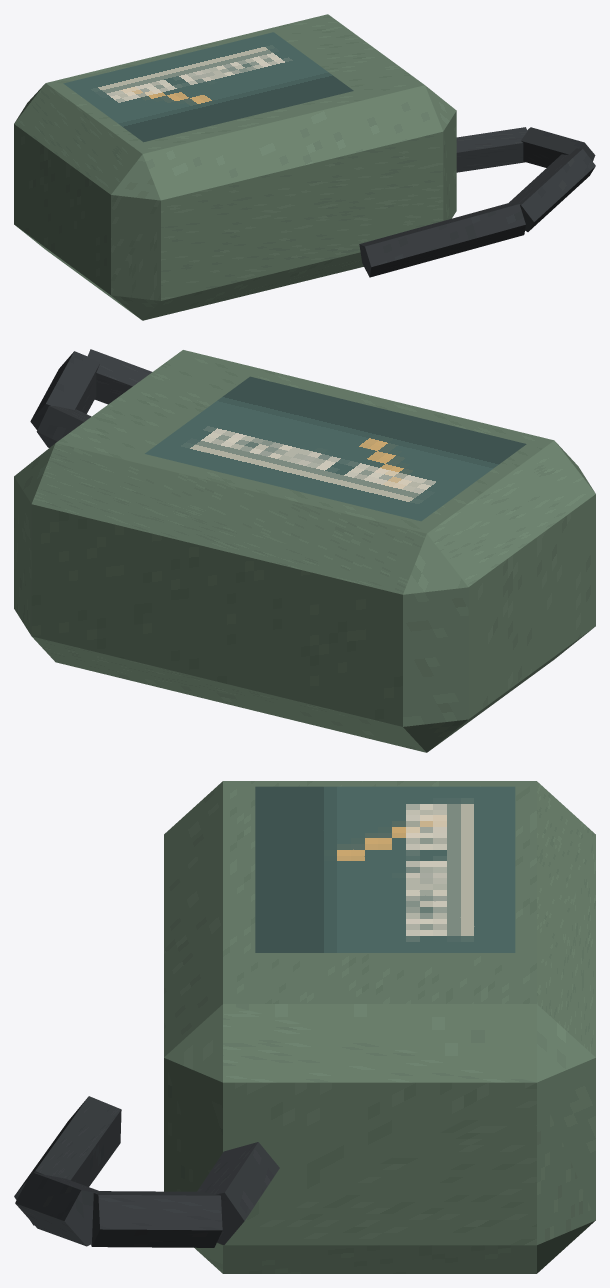
The model's file is water_purifier.glb.
3 renders of one model, top to bottom at view 1: azimuth 30°, elevation 25°; view 2: azimuth 150°, elevation 25°; view 3: azimuth 270°, elevation 25°, orthographic. The views are drawn at different scales.
Visible parts, largest first — view 1: block_portable filter body, block_purifier control panel, block_filter inlet and outlet hose 3, block_filter inlet and outlet hose 2, block_filter inlet and outlet hose 0, block_filter inlet and outlet hose 1; view 2: block_portable filter body, block_purifier control panel, block_filter inlet and outlet hose 1, block_filter inlet and outlet hose 2, block_filter inlet and outlet hose 0; view 3: block_portable filter body, block_purifier control panel, block_filter inlet and outlet hose 1, block_filter inlet and outlet hose 3, block_filter inlet and outlet hose 0, block_filter inlet and outlet hose 2.
Part boxes in pixels (x1,y1,x2,y2): block_portable filter body: (14, 14, 456, 320); block_purifier control panel: (63, 32, 353, 142); block_filter inlet and outlet hose 3: (359, 203, 525, 277); block_filter inlet and outlet hose 2: (508, 148, 595, 231); block_filter inlet and outlet hose 0: (456, 127, 527, 172); block_filter inlet and outlet hose 1: (521, 127, 595, 167); block_portable filter body: (14, 350, 595, 752); block_purifier control panel: (145, 376, 526, 521); block_filter inlet and outlet hose 1: (30, 351, 100, 429); block_filter inlet and outlet hose 2: (87, 349, 151, 404); block_filter inlet and outlet hose 0: (36, 406, 91, 447); block_portable filter body: (164, 781, 595, 1273); block_purifier control panel: (255, 786, 515, 952); block_filter inlet and outlet hose 1: (91, 1191, 222, 1247); block_filter inlet and outlet hose 3: (14, 1096, 121, 1225); block_filter inlet and outlet hose 0: (197, 1142, 279, 1244); block_filter inlet and outlet hose 2: (15, 1172, 98, 1246).
Size of the model in its own units: 0.2755 by 0.0994 by 0.1921.
Materials: 1 (1 with a texture image).
